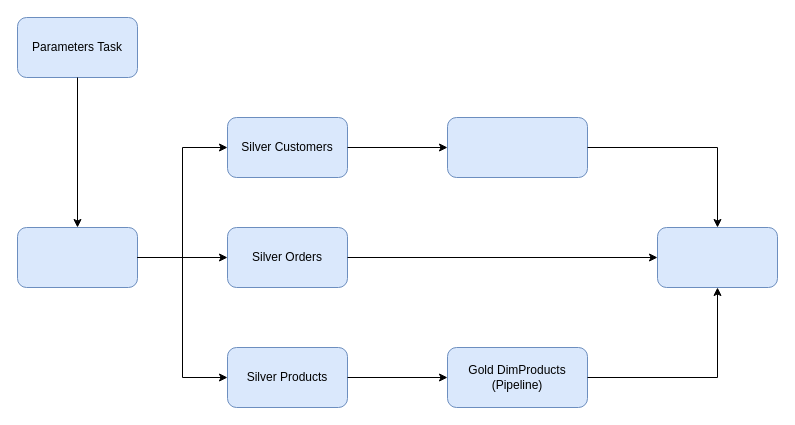
Image size: 795x425. Some labels were removed from this diagram. The centre of each missing label's shape, as x and y in pixels:
"Bronze Auto Loader (For Each)" belongs at [77,257].
"Fact Orders" belongs at [717,257].
"Gold DimCustomers" belongs at [517,147].
